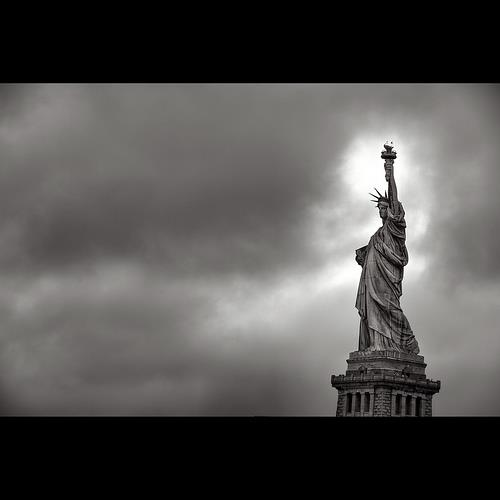Statue_of_Liberty: (340, 138, 432, 356)
